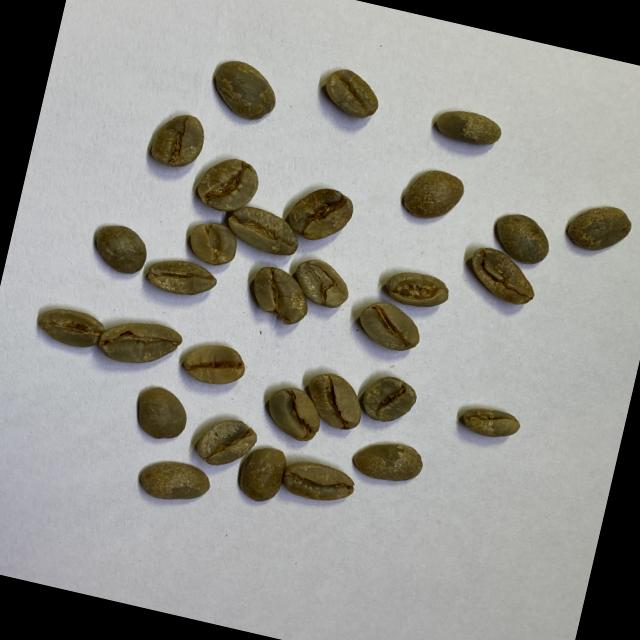bad: (95, 312, 184, 376), (464, 244, 542, 310), (243, 262, 315, 328), (376, 263, 454, 315), (288, 254, 354, 312), (34, 302, 104, 352), (182, 218, 242, 270)
good: (206, 54, 284, 126), (280, 178, 356, 246), (220, 198, 304, 258), (192, 149, 263, 217), (562, 197, 636, 260), (134, 452, 213, 510), (348, 432, 427, 489), (398, 162, 467, 226), (302, 369, 369, 434), (317, 62, 386, 123), (281, 454, 358, 508), (192, 412, 259, 474), (486, 207, 554, 268), (355, 297, 425, 356), (177, 336, 250, 392), (147, 109, 209, 172), (262, 382, 326, 443), (130, 382, 192, 444), (86, 220, 152, 278), (143, 252, 219, 302), (357, 369, 418, 430), (428, 102, 505, 150), (233, 440, 289, 506), (458, 400, 524, 445)
